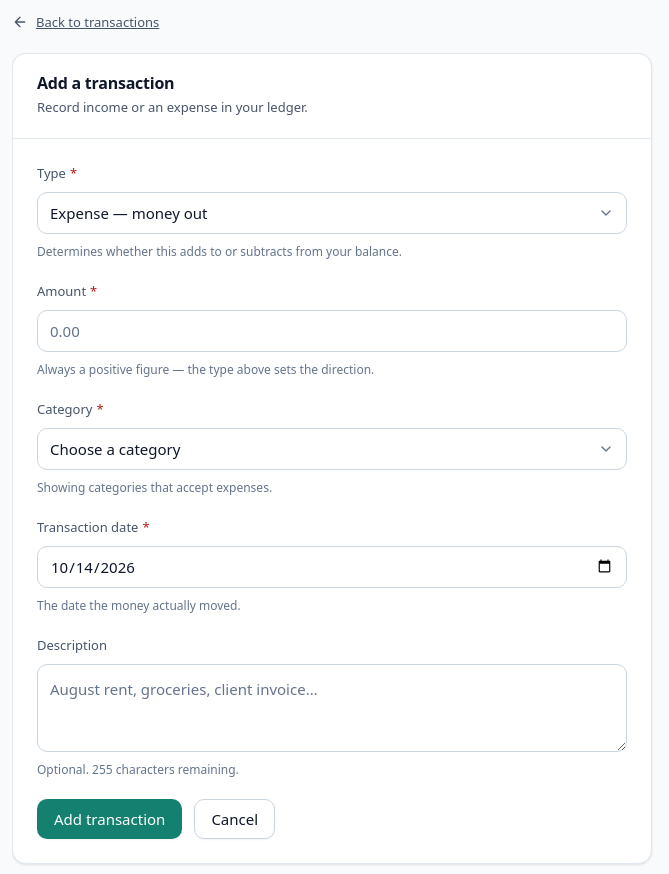
Scenario: TransactionFormPage › marks the field the backend rejected
This screenshot has width=669, height=874.
Type "1250.00" into the number field labelled "Amount *".
click(332, 331); type("1250.00")  # box [37, 310, 627, 352]
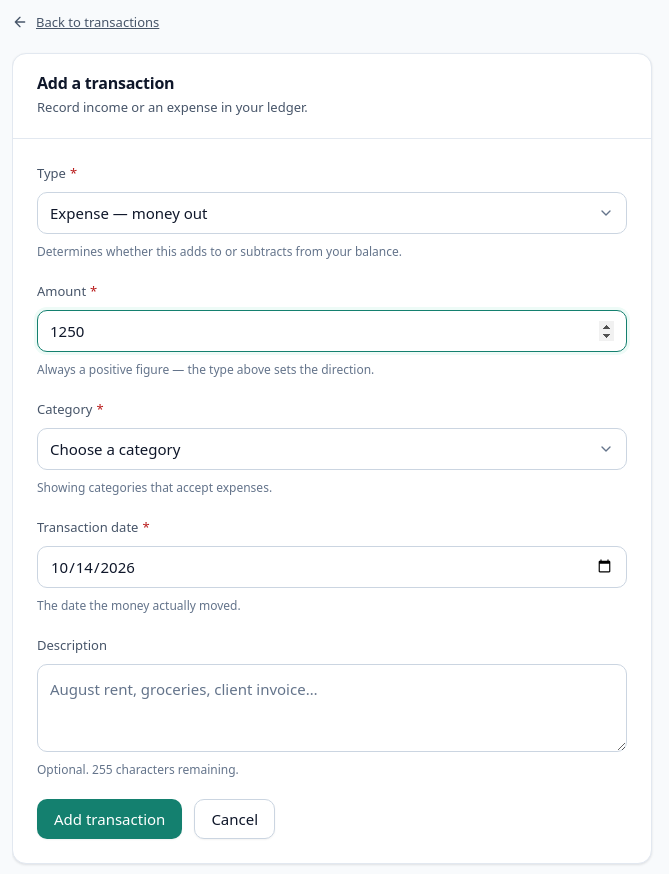
Select "Rent" in the dropdown labelled "Category *" at [332, 448], box [37, 428, 627, 470]
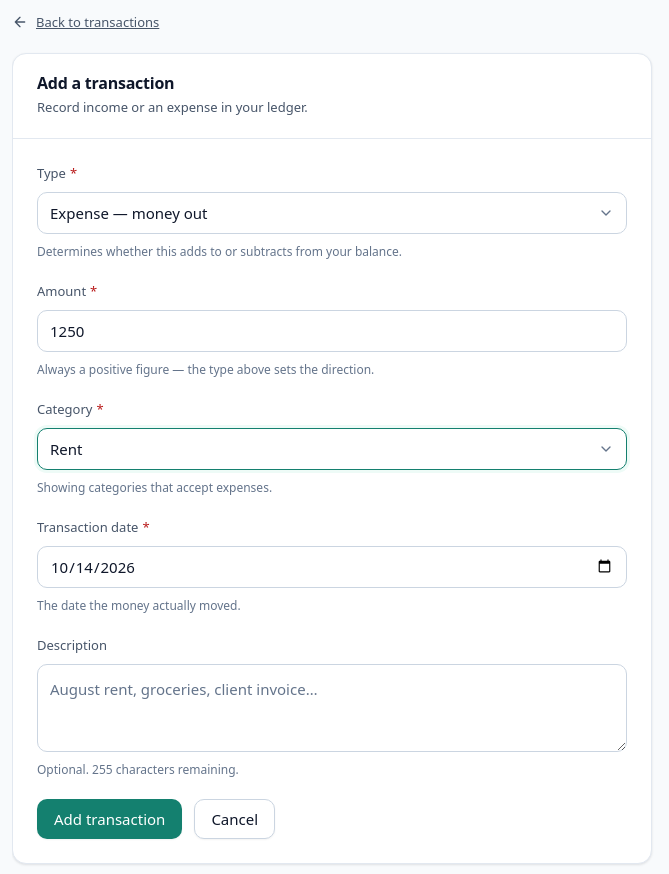
Type "2026-08-01" into the date field labelled "Transaction date *".
click(332, 566); type("2026-08-01")  # box [37, 546, 627, 588]
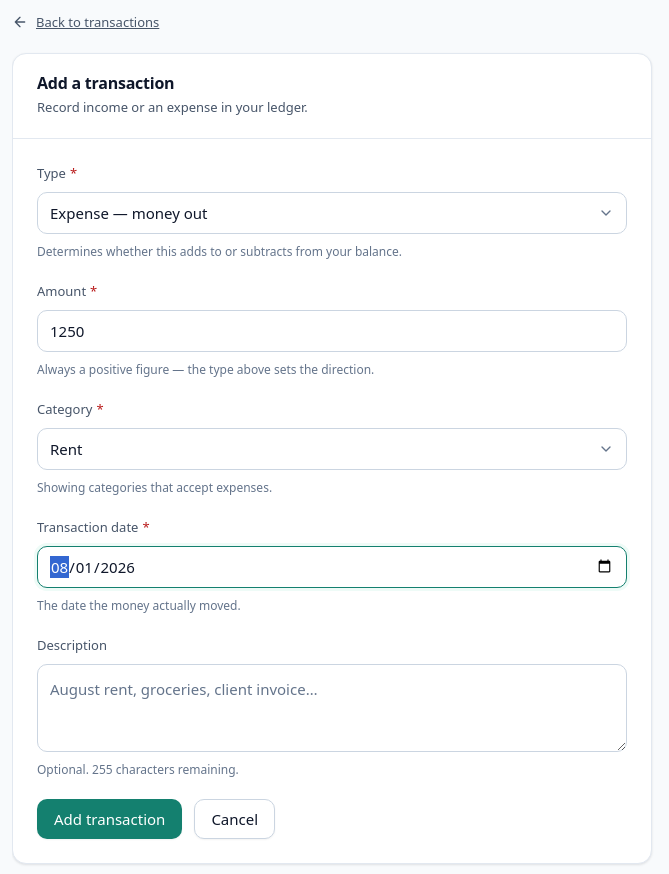
Click the button "Add transaction".
click(110, 819)  # box [37, 799, 182, 839]
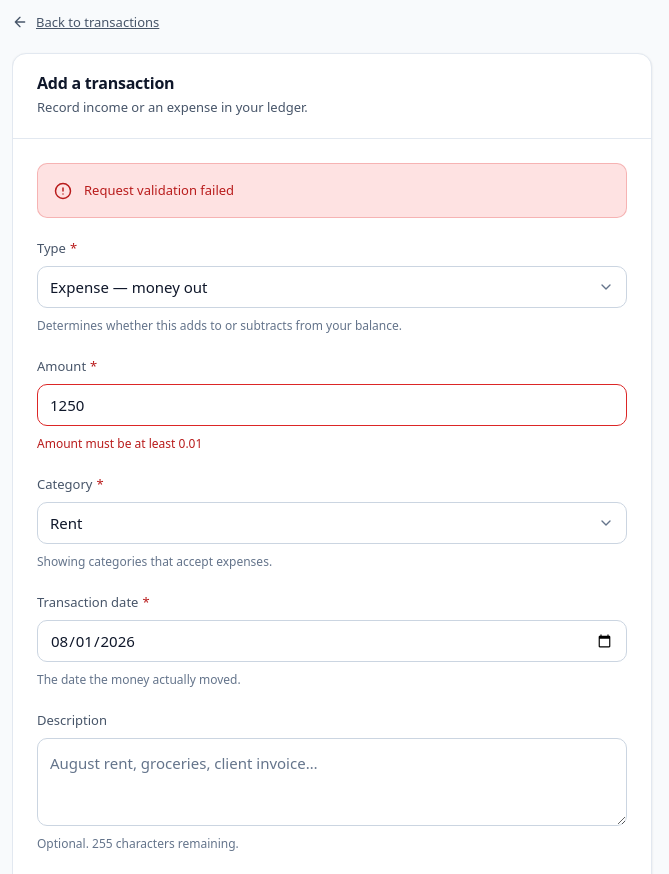
Expected: the text "Amount must be at least 0.01" is shown, [37, 435, 202, 452]
